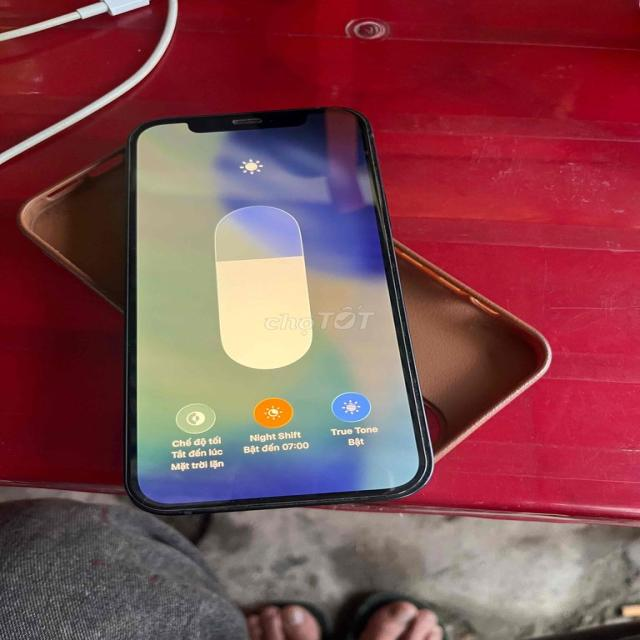gen_12_13: (120, 99, 439, 516)
